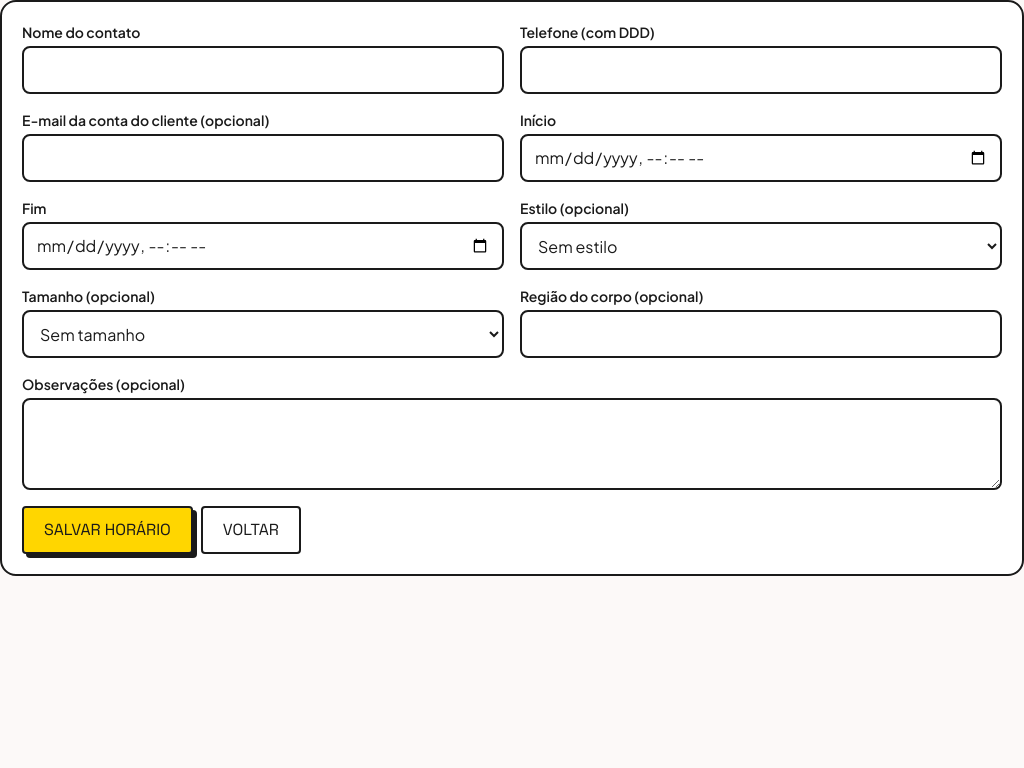
Test: RF22/RN08 mostra o erro no campo e a recusa de sobreposição, sem fechar o formulário
Click the button "Salvar horário": (107, 530) [22,506,193,554]
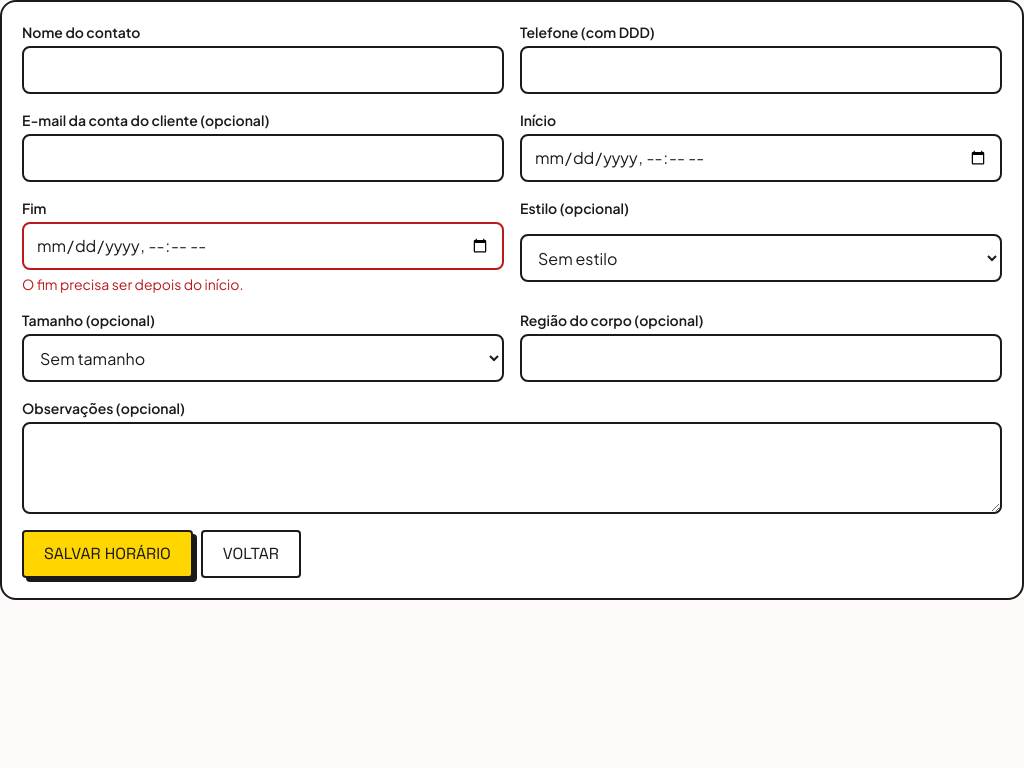
Expected: the text "O fim precisa ser depois do início." is shown, [22,275,243,293]
Click the button "Salvar horário": (107, 554) [22,530,193,578]
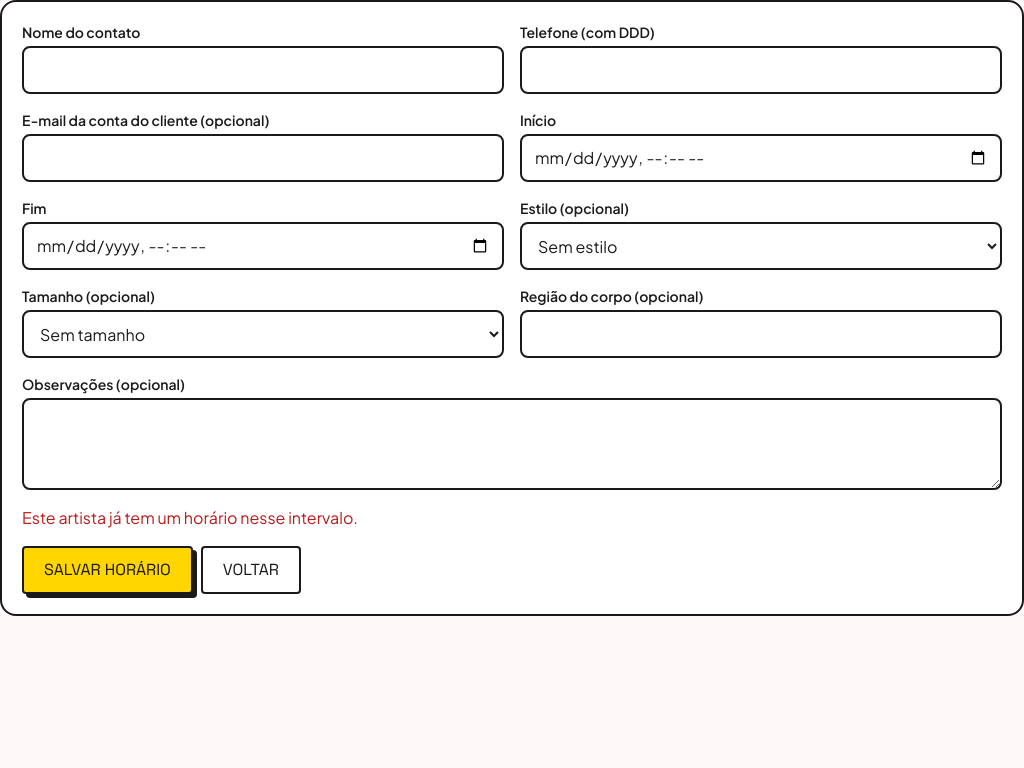
Expected: the message reads "Este artista já tem um horário nesse intervalo.", [22,507,358,528]
